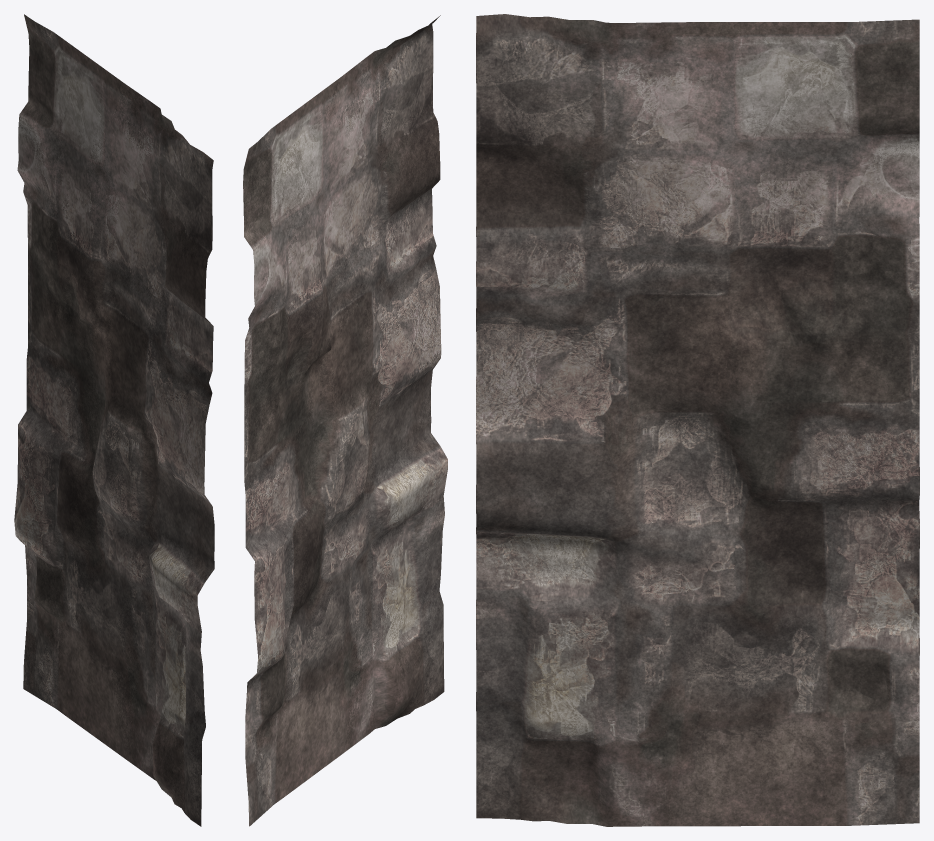
The model's file is SM_StoneWall_B_02.fbx.
The picture shows the model from 3 angles, left to right: view 1: azimuth 30°, elevation 25°; view 2: azimuth 150°, elevation 25°; view 3: azimuth 270°, elevation 25°; orthographic projection. The views are drawn at different scales.
Visible parts, largest first — view 1: SM_StoneWall_B_02_LOD0; view 2: SM_StoneWall_B_02_LOD0; view 3: SM_StoneWall_B_02_LOD0.
Boxes of the visible parts, x1,y1,x2,y2 form: SM_StoneWall_B_02_LOD0: (14, 14, 214, 826); SM_StoneWall_B_02_LOD0: (243, 15, 447, 826); SM_StoneWall_B_02_LOD0: (476, 14, 919, 826).
Size of the model in its own units: 11.51 by 200 by 400.
